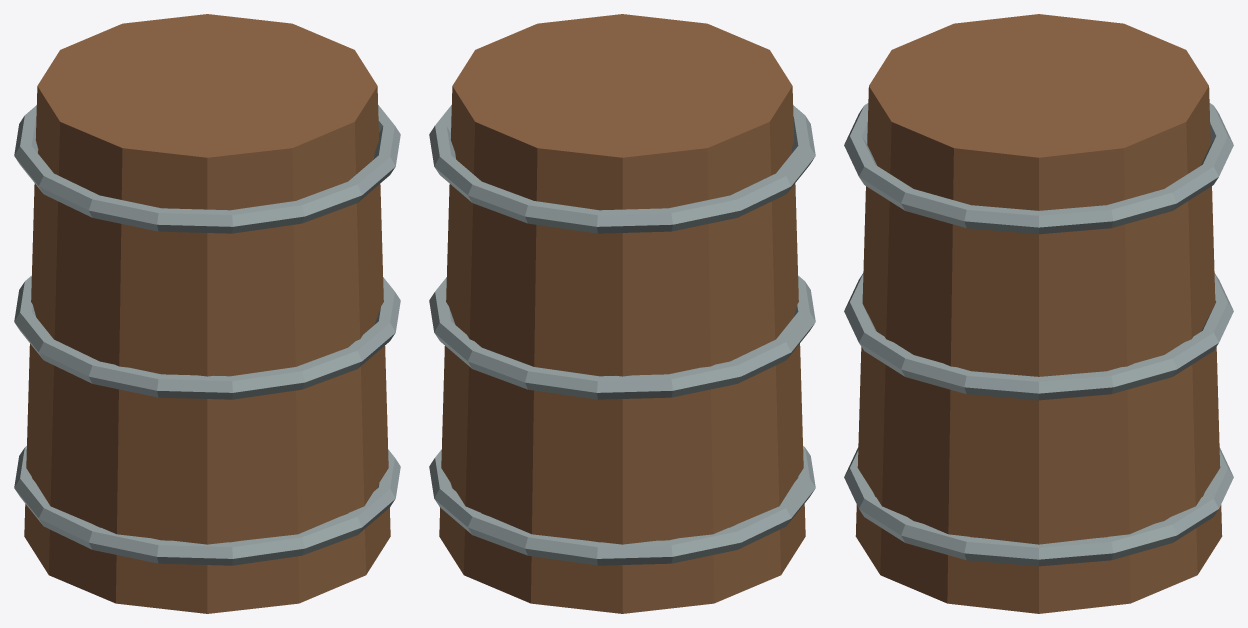
The model's file is Barrel_A.glb.
The picture shows the model from 3 angles, left to right: view 1: azimuth 30°, elevation 25°; view 2: azimuth 150°, elevation 25°; view 3: azimuth 270°, elevation 25°; orthographic projection.
Parts seen in each view (by area): view 1: Barrel_A; view 2: Barrel_A; view 3: Barrel_A.
Boxes of the visible parts, bbox=[...] form: Barrel_A: bbox=[14, 14, 400, 613]; Barrel_A: bbox=[429, 14, 815, 613]; Barrel_A: bbox=[844, 14, 1233, 613].
Size of the model in its own units: 0.596 by 0.76 by 0.596.
